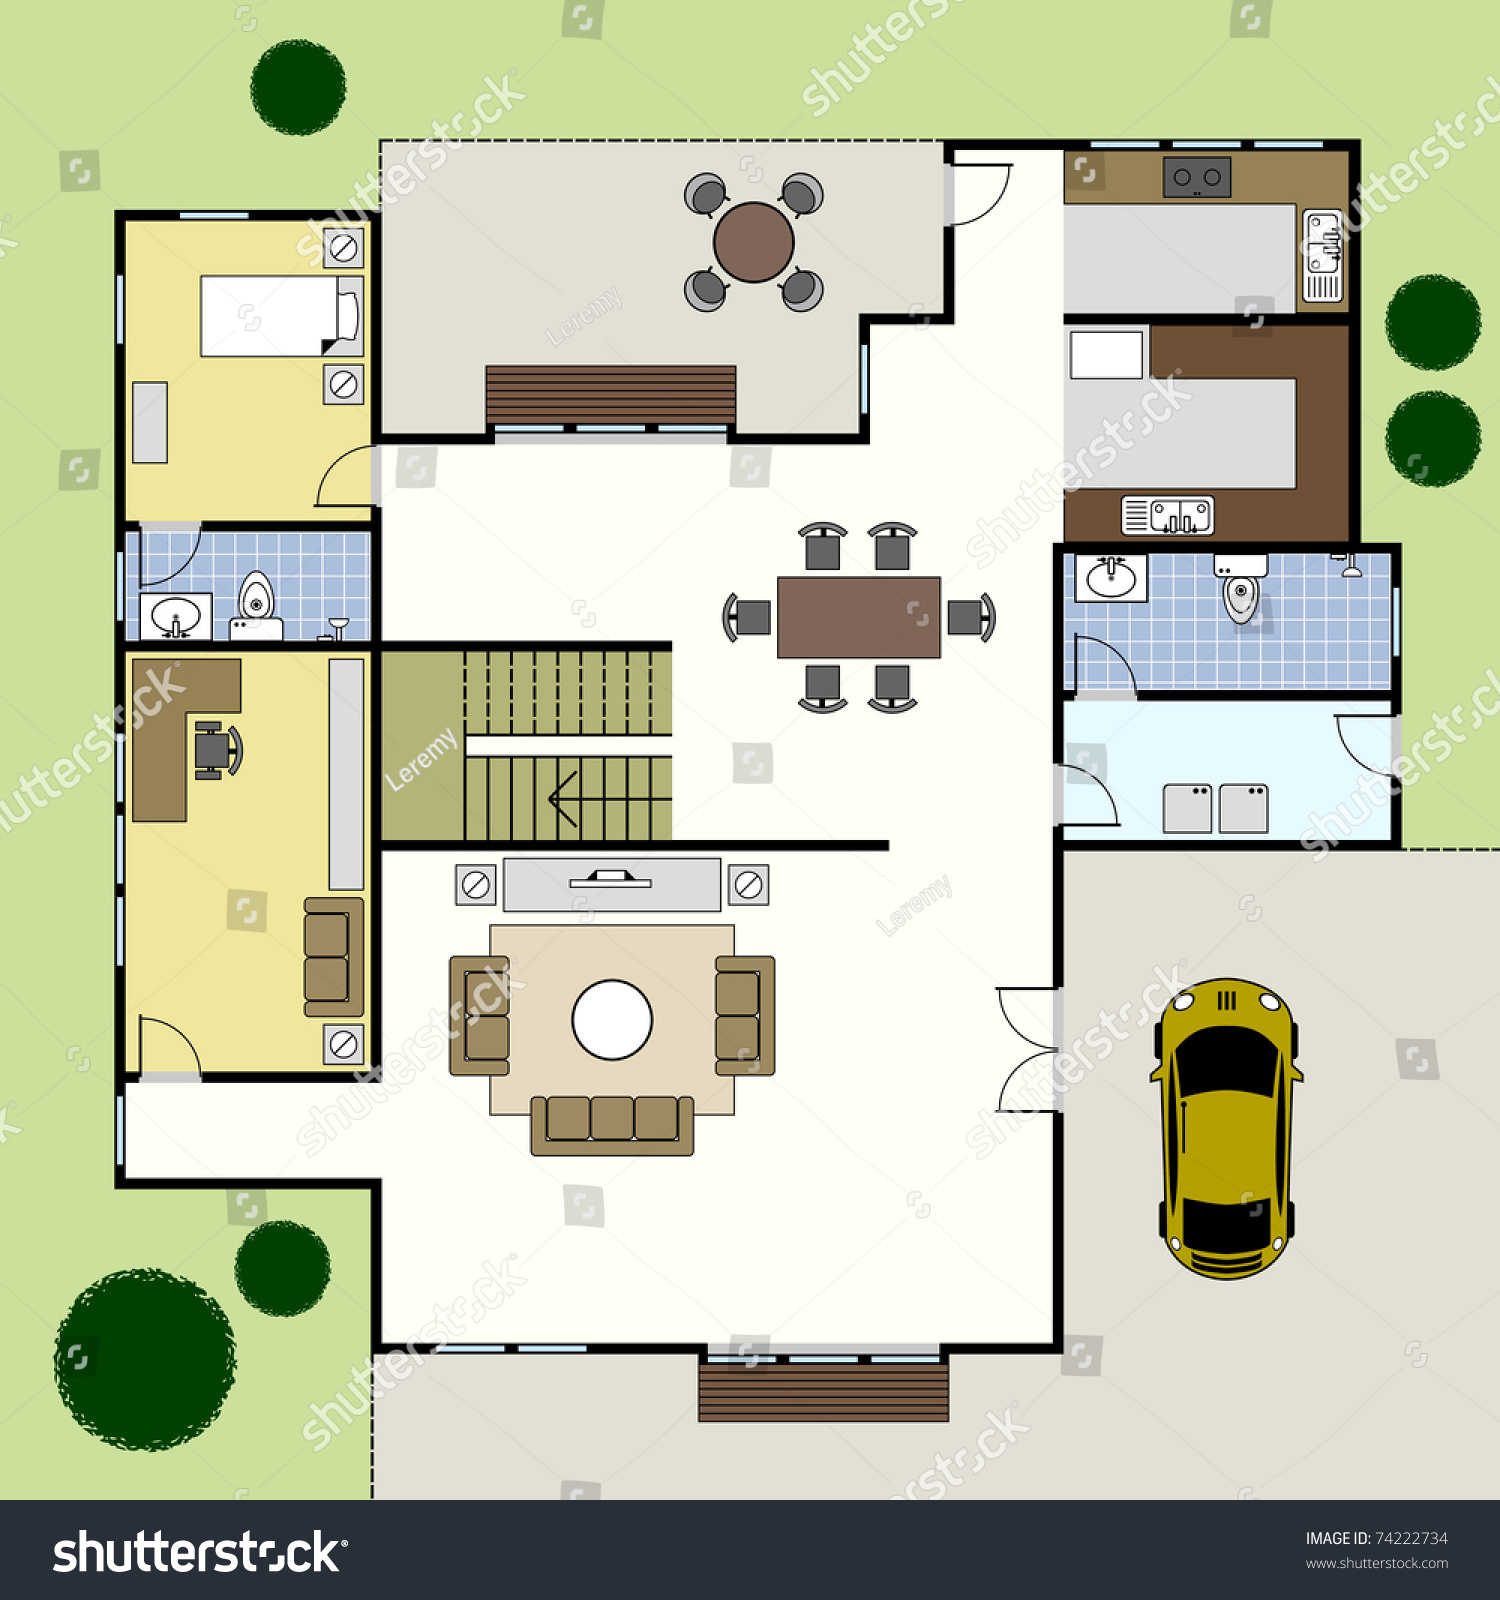door: (997, 985, 1060, 1116), (135, 1012, 206, 1076), (1071, 630, 1141, 689), (1064, 760, 1119, 832), (134, 533, 202, 586), (960, 159, 1014, 226), (310, 445, 367, 507), (1334, 712, 1386, 778)
